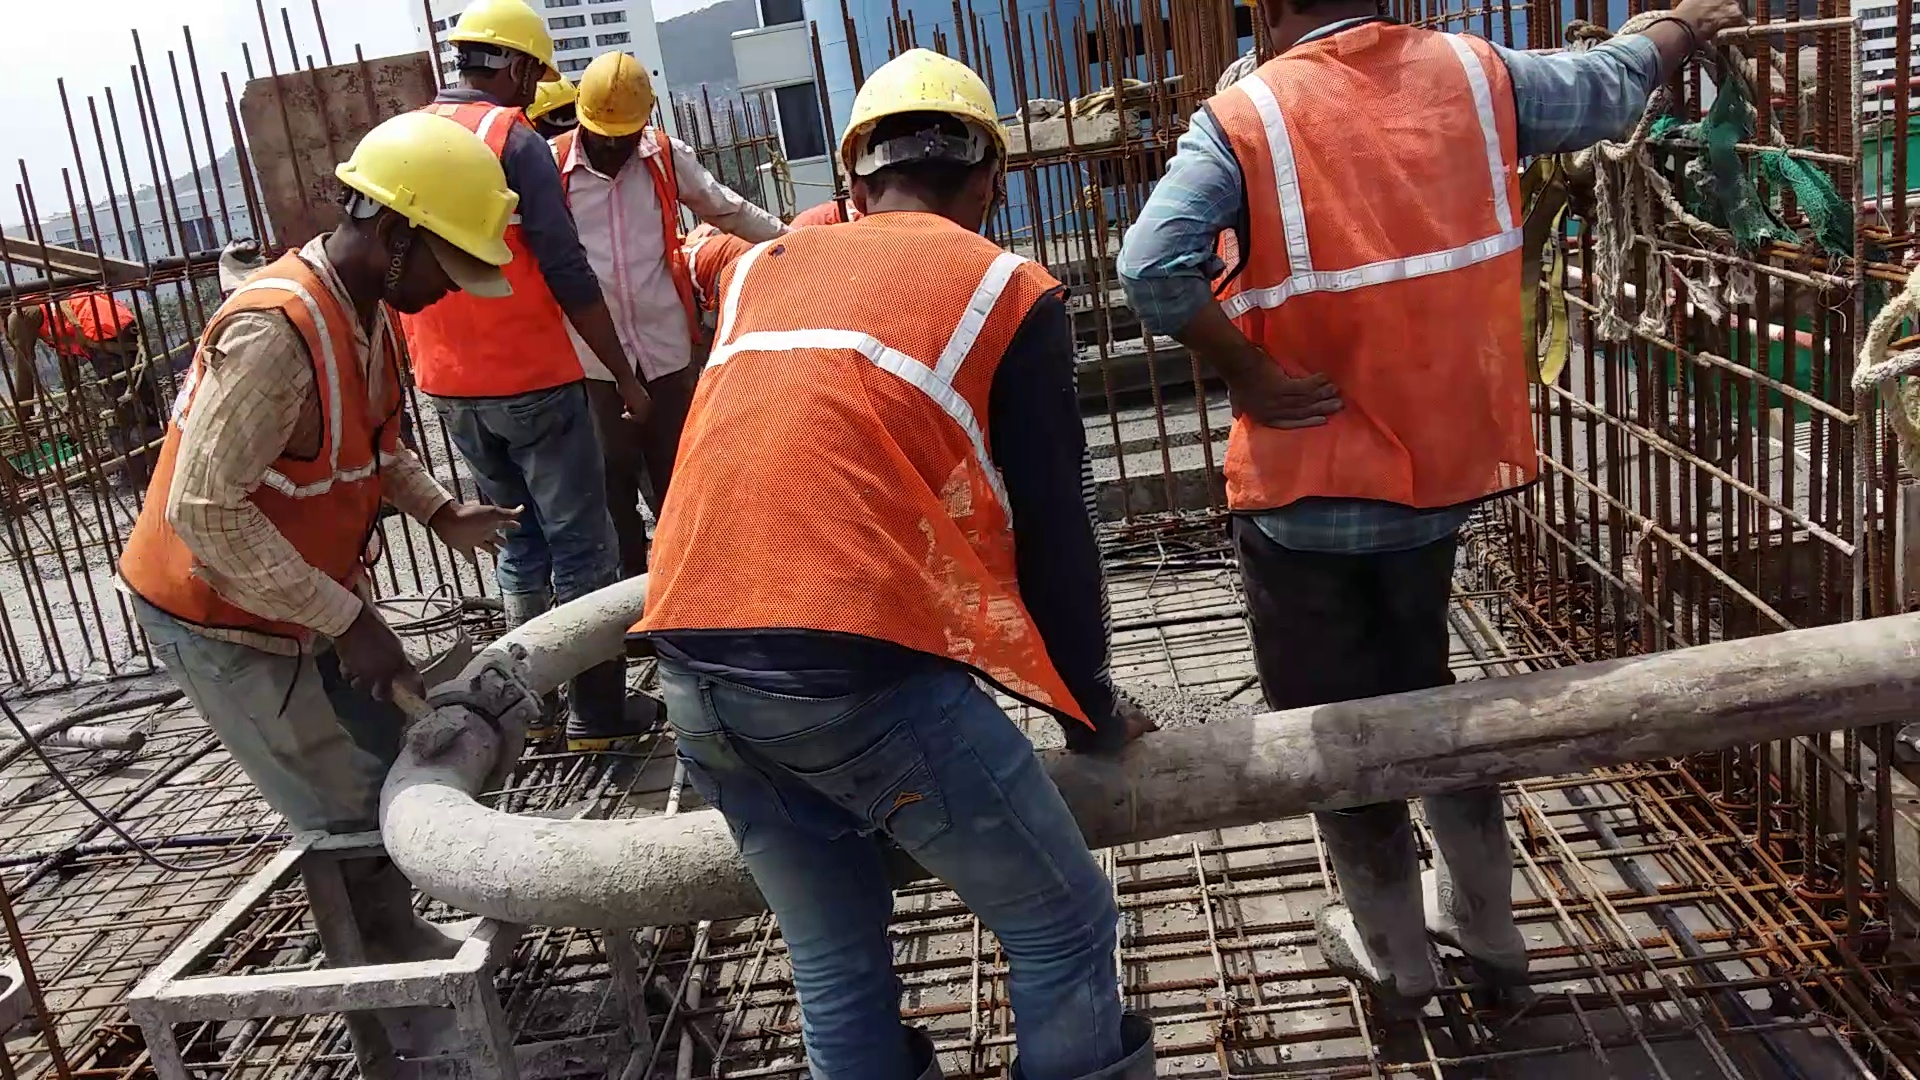SAFE: (713, 36, 1029, 702), (121, 107, 514, 621), (560, 47, 688, 371)
